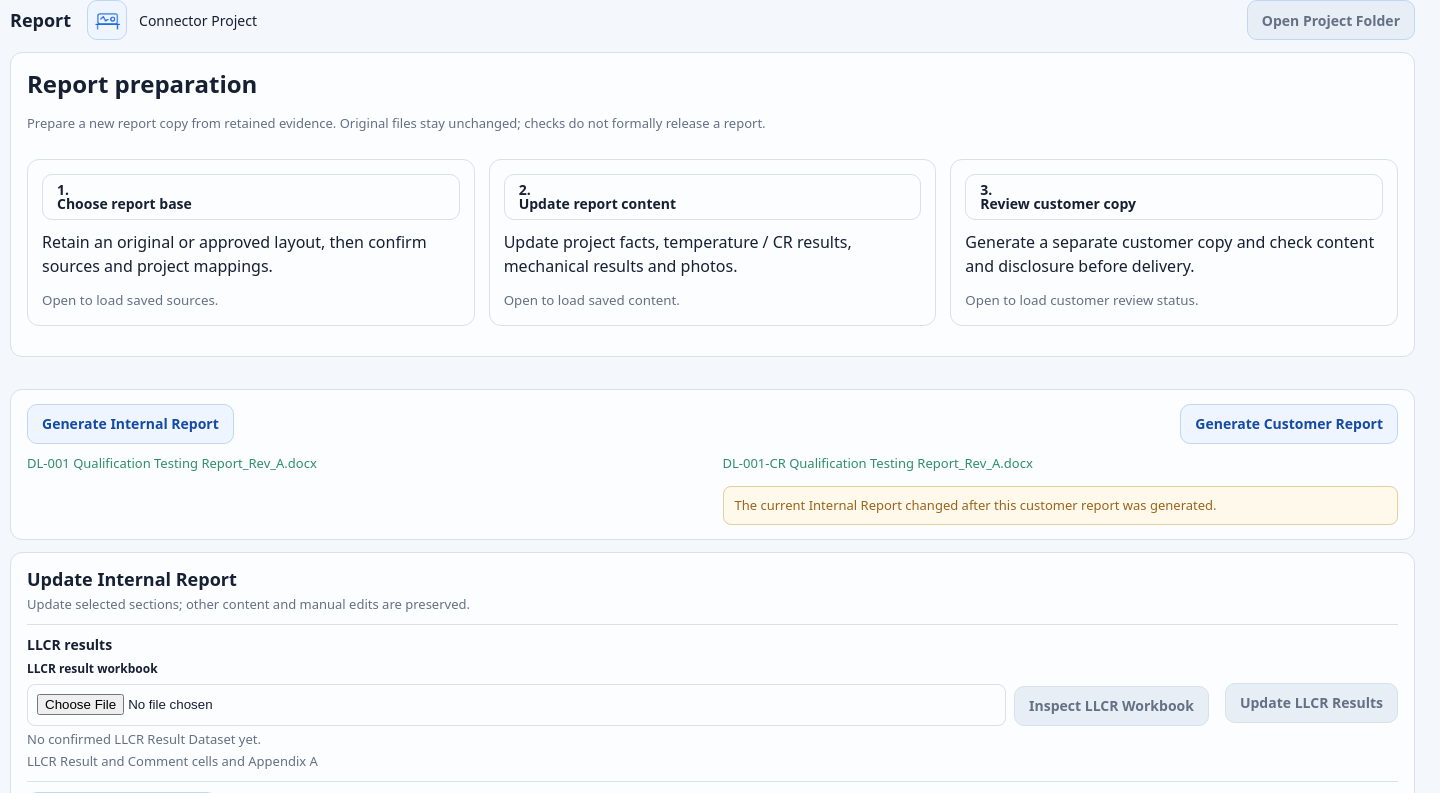
ReportWorkspace › keeps report generation available when checking the project folder fails
The image size is (1440, 793).
Expected: the element "Internal Report" is shown, x1=27 y1=404 x2=317 y2=472
Expected: the button "Open Project Folder" is disabled, x1=1247 y1=0 x2=1415 y2=40
Click the button "Generate Internal Report": [130, 424] box x1=27 y1=404 x2=234 y2=444
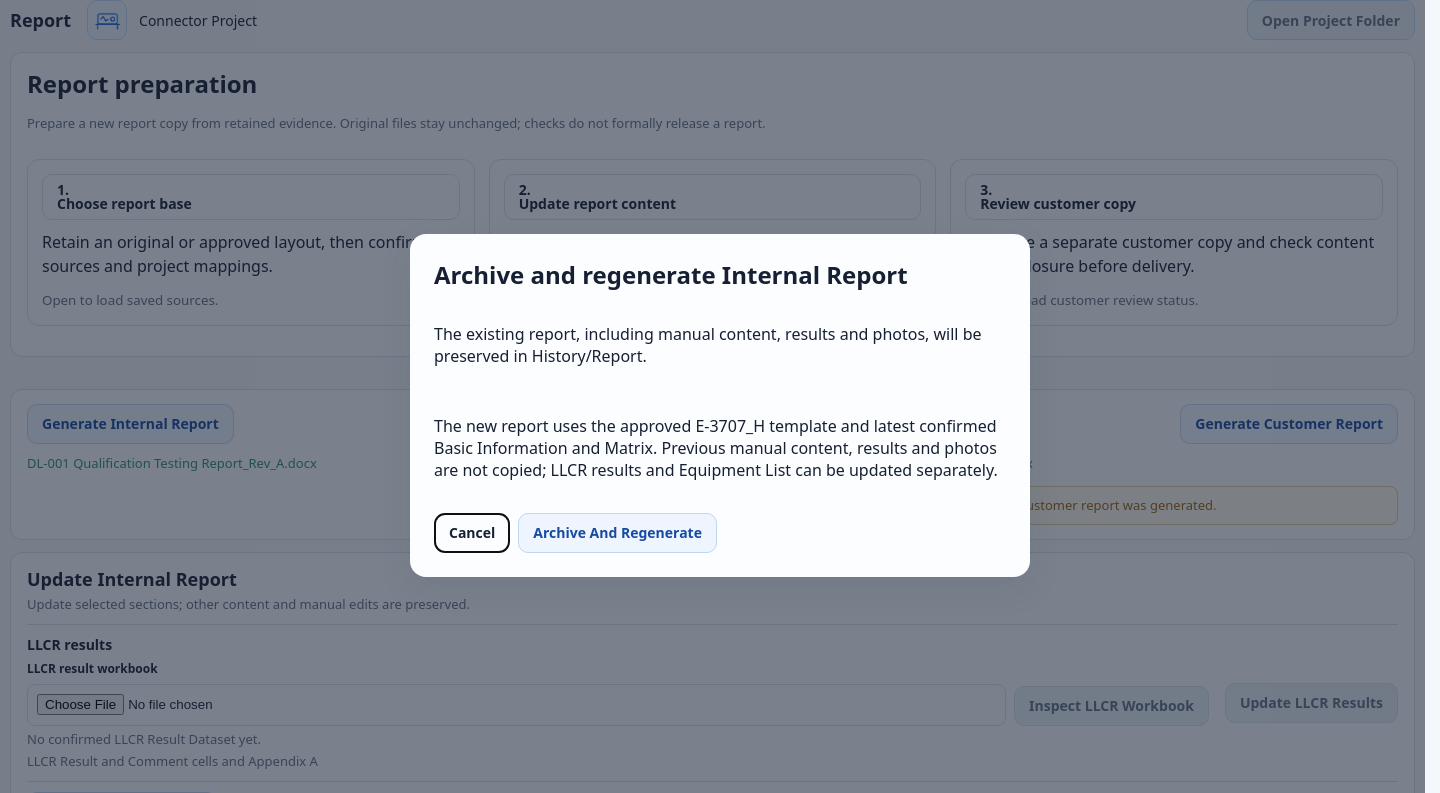
Now the dialog "Archive and regenerate Internal Report" is shown, box x1=410 y1=234 x2=1030 y2=576
